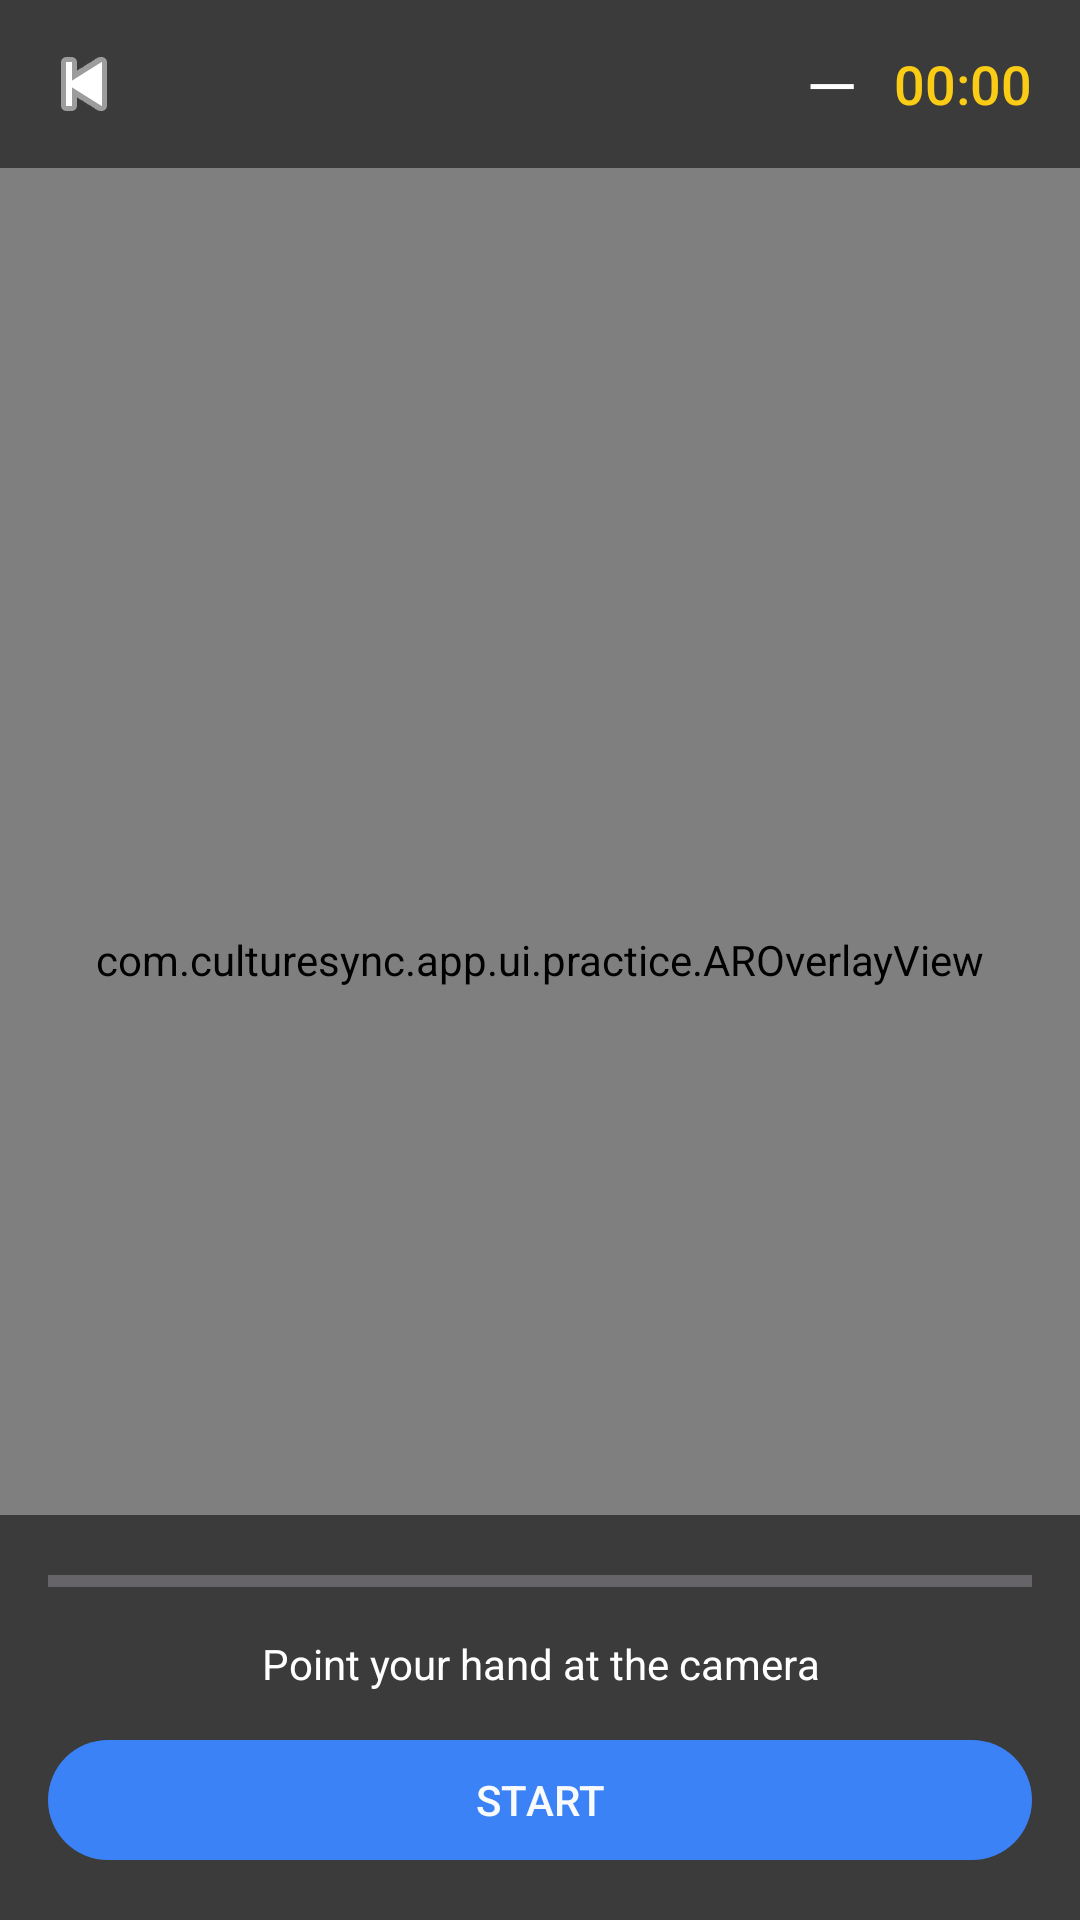

Icons on this 1080*1920 Android screen, each with the point to tap as [x,y]:
previous: [84,84]
